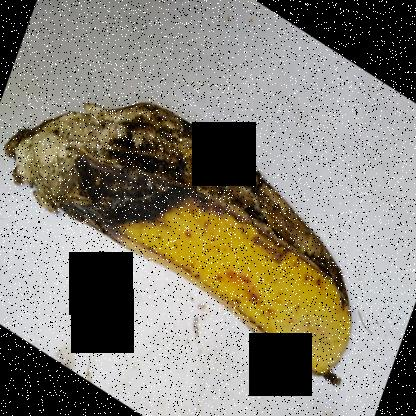rotten: (8, 90, 229, 235), (183, 135, 356, 307)
